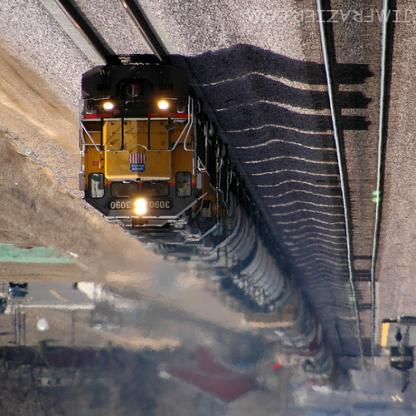car: (9, 283, 33, 302), (2, 300, 8, 316)
person: (395, 329, 405, 345)
train: (79, 60, 355, 399)
